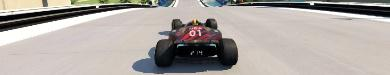Car: (153, 17, 238, 66)
